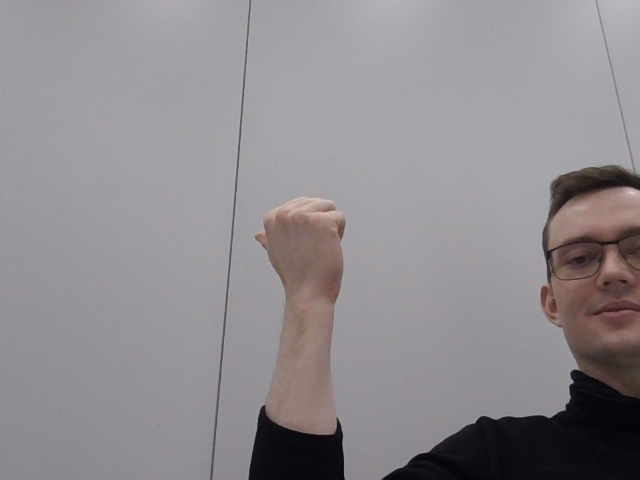right: (233, 181, 401, 321)
